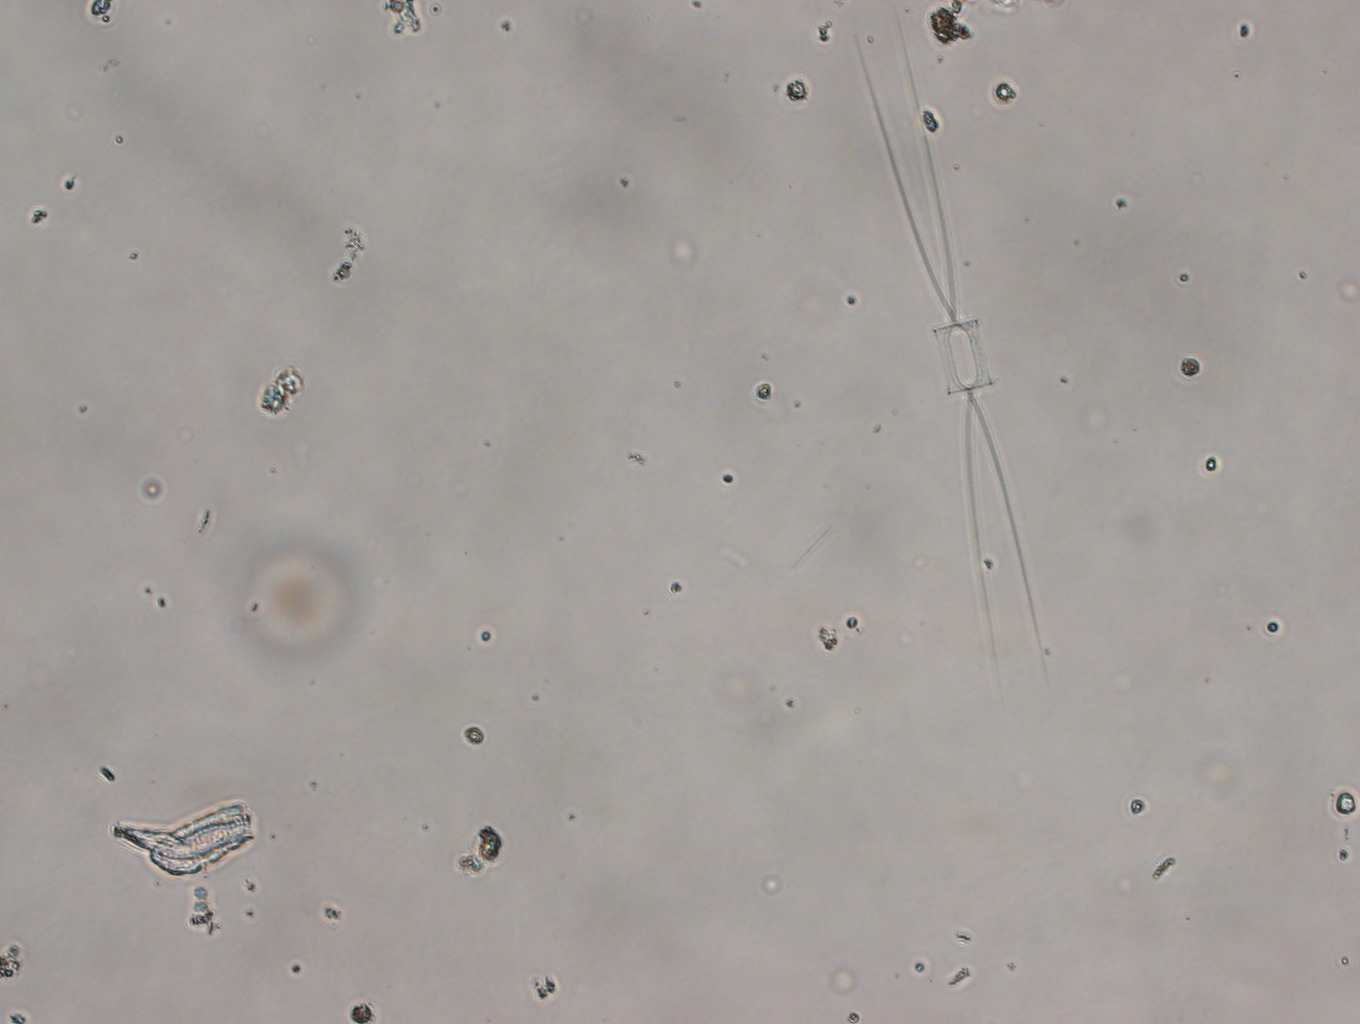chaetoceros: (855, 8, 1047, 685)
